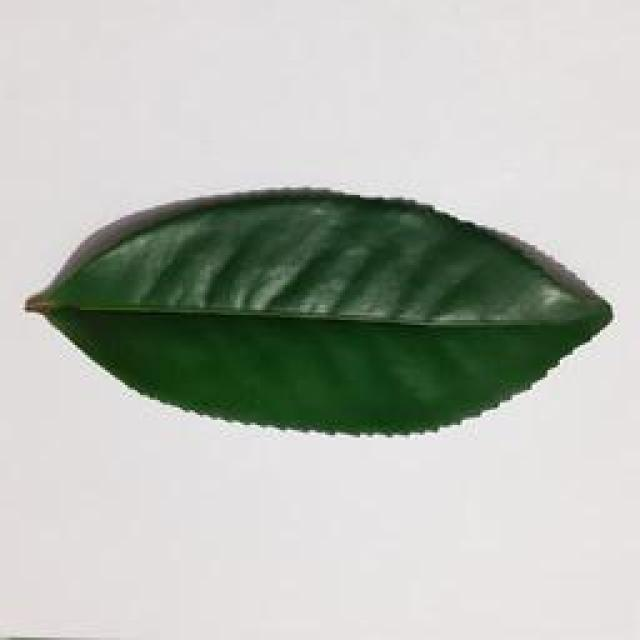Healthy: (20, 194, 639, 449)
